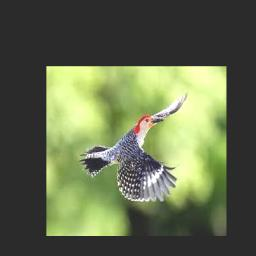Woodpecker: (80, 91, 188, 202)
